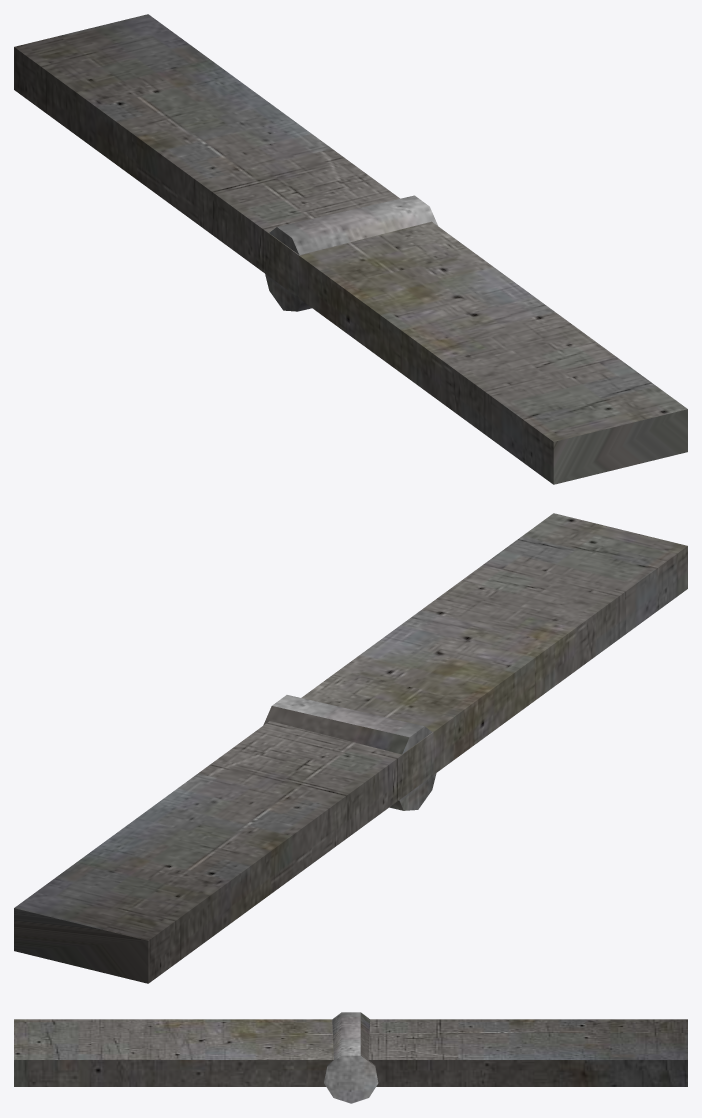
The model's file is Brazo.FBX.
The picture shows the model from 3 angles, top to bottom: view 1: azimuth 30°, elevation 25°; view 2: azimuth 150°, elevation 25°; view 3: azimuth 270°, elevation 25°; orthographic projection. The views are drawn at different scales.
Parts seen in each view (by area): view 1: Brazo; view 2: Brazo; view 3: Brazo.
Boxes of the visible parts, x1,y1,x2,y2 form: Brazo: (14,14,687,484); Brazo: (14,513,687,983); Brazo: (14,1012,687,1103).
Size of the model in its own units: 8.6 by 4.73 by 57.87.
